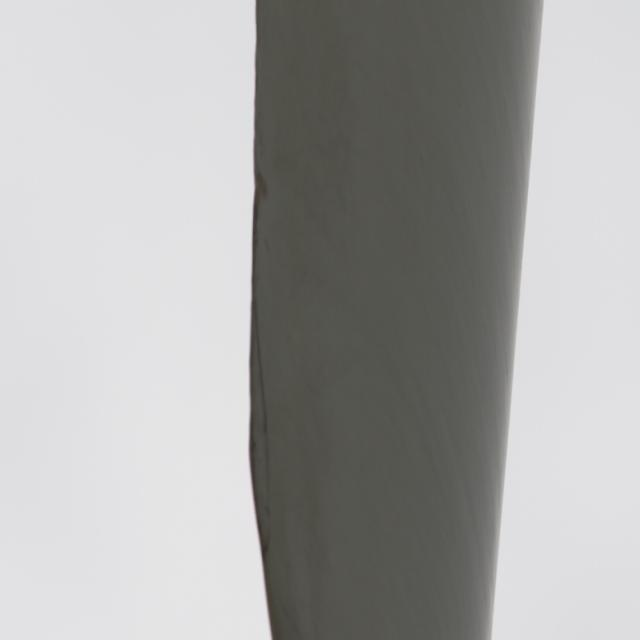Crack: (249, 298, 278, 560)
EROSION: (254, 139, 275, 272)
